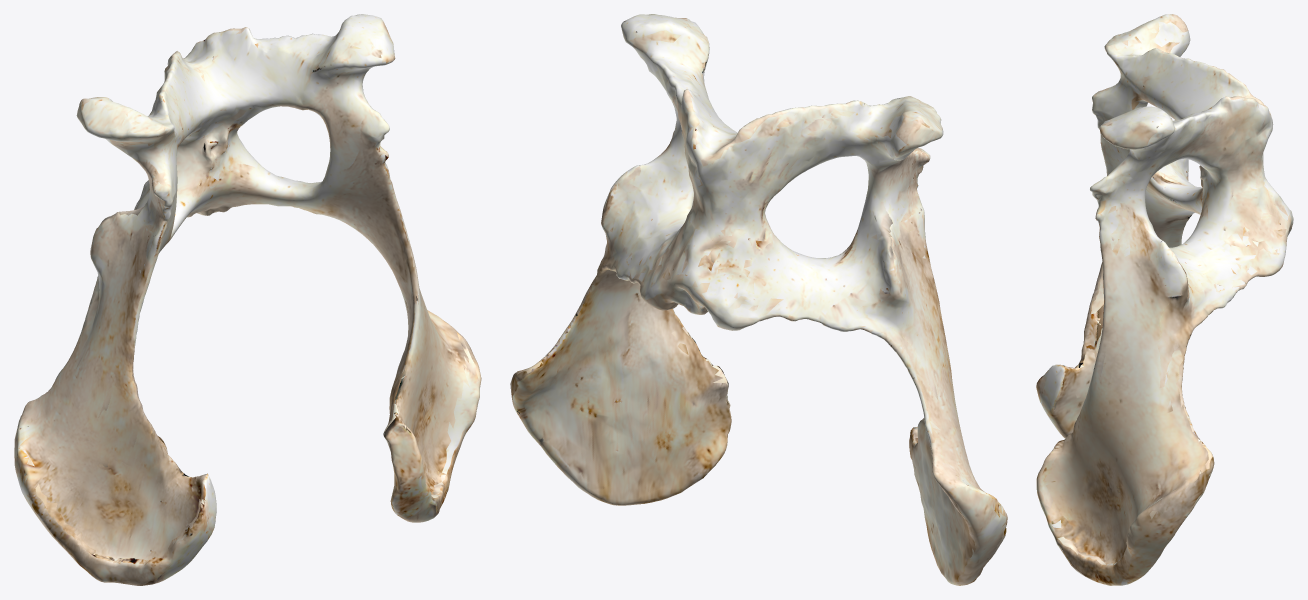
The model's file is Sacrum_bone-s1 .glb.
The picture shows the model from 3 angles, left to right: view 1: azimuth 30°, elevation 25°; view 2: azimuth 150°, elevation 25°; view 3: azimuth 270°, elevation 25°; orthographic projection. The views are drawn at different scales.
Visible parts, largest first — view 1: sacrum-bon; view 2: sacrum-bon; view 3: sacrum-bon.
Part boxes in pixels (box(x1,y1,x2,y2)): sacrum-bon: box(14, 14, 481, 585); sacrum-bon: box(510, 14, 1007, 585); sacrum-bon: box(1036, 14, 1293, 585).
Bounding box in the file's own units: 0.4137 × 0.4238 × 0.2193.
Materials: 1 (1 with a texture image).
